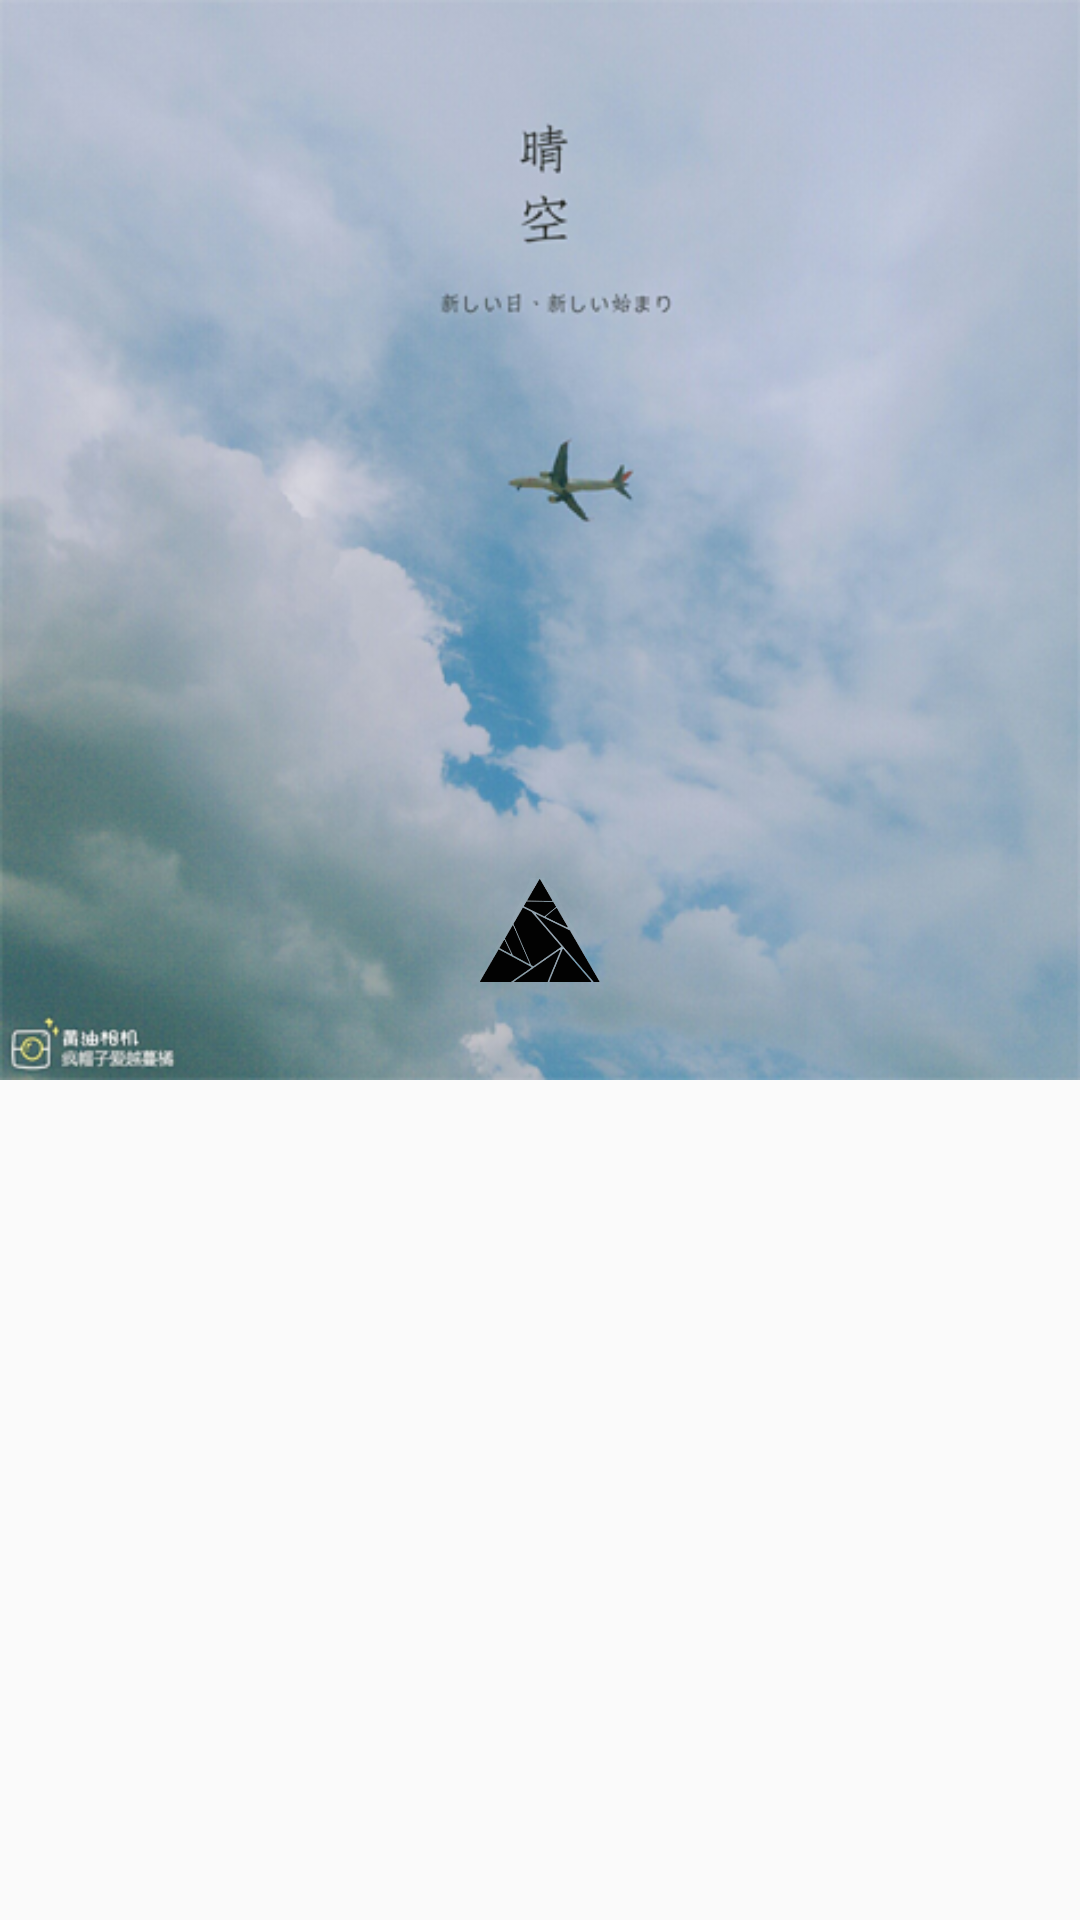

Where to tap for icons on this 1080px x 1920px app screen, as (x=x, y=y):
triangle: (x=540, y=930)
